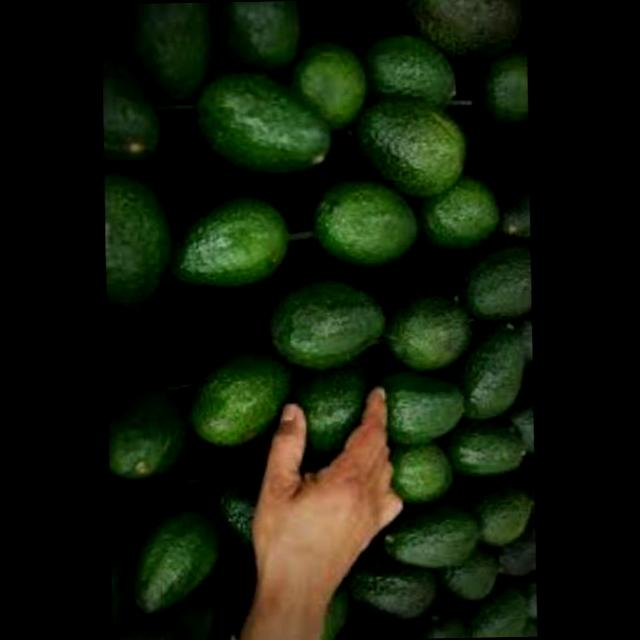Avocado: (173, 191, 321, 305), (194, 77, 340, 186), (132, 499, 234, 640), (104, 2, 234, 102), (277, 274, 395, 382), (109, 374, 198, 516), (194, 331, 298, 447), (321, 170, 417, 282), (355, 98, 468, 192), (204, 0, 322, 82), (104, 42, 173, 180), (396, 0, 530, 67), (413, 165, 509, 257), (106, 188, 172, 318), (374, 504, 484, 582), (382, 34, 474, 120), (454, 240, 534, 332), (459, 326, 532, 426), (374, 376, 476, 446), (300, 30, 374, 126), (403, 286, 490, 366), (389, 436, 476, 508), (450, 428, 528, 490), (466, 582, 540, 636), (488, 492, 538, 562), (488, 49, 530, 131)
